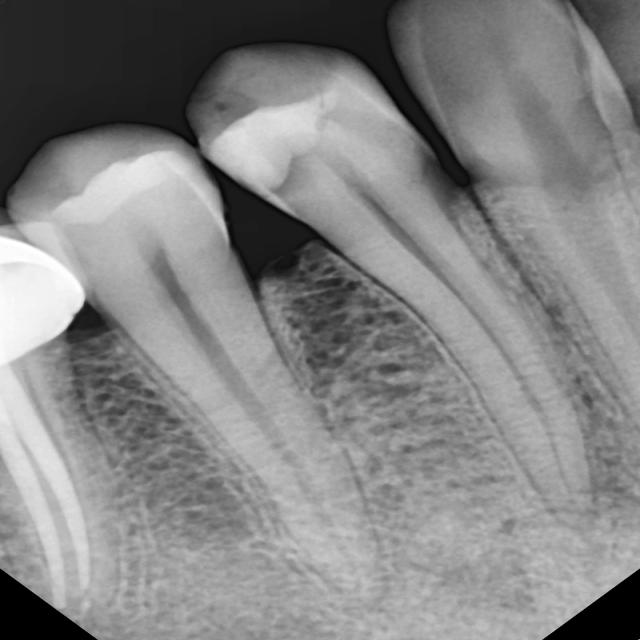Normal: (183, 41, 590, 532), (9, 125, 382, 592)
